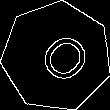O_SW: (23, 23, 90, 90)
